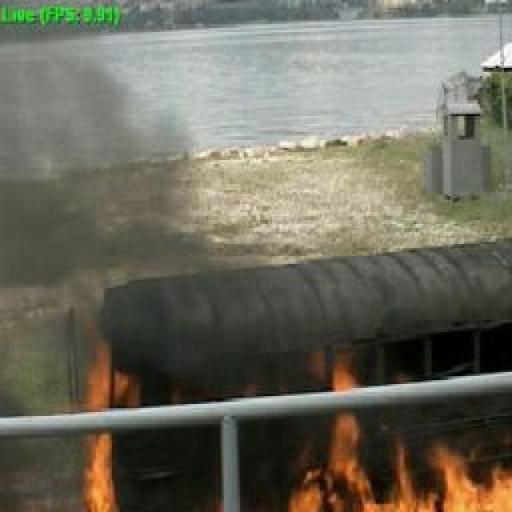smoke: (283, 436, 512, 512), (74, 343, 158, 512), (305, 346, 375, 386)
